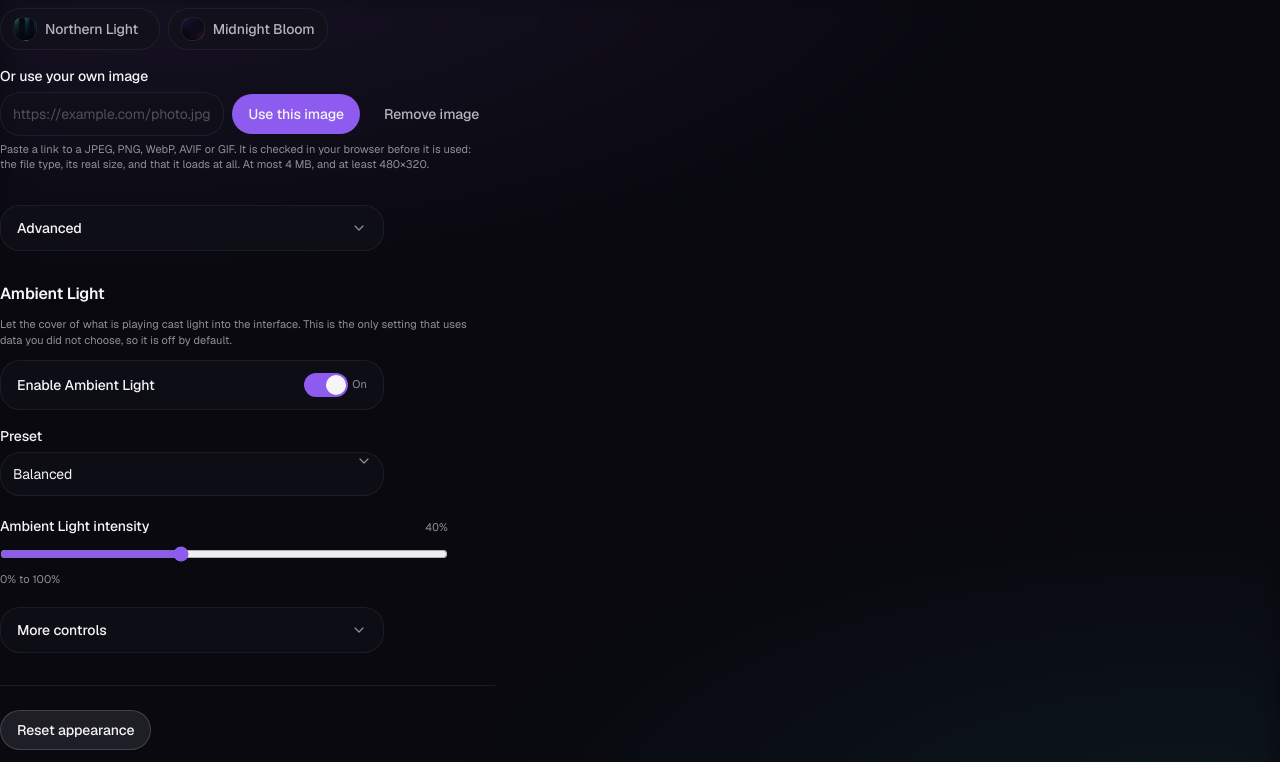
Appearance panel: Ambient Light is a first-class, progressive setting › the disclosure is a real expandable region with a state
This screenshot has width=1280, height=762.
(page scrolled)
Click the button with test id "ambient-more-toggle" at (62, 630), box [0,607,384,653]
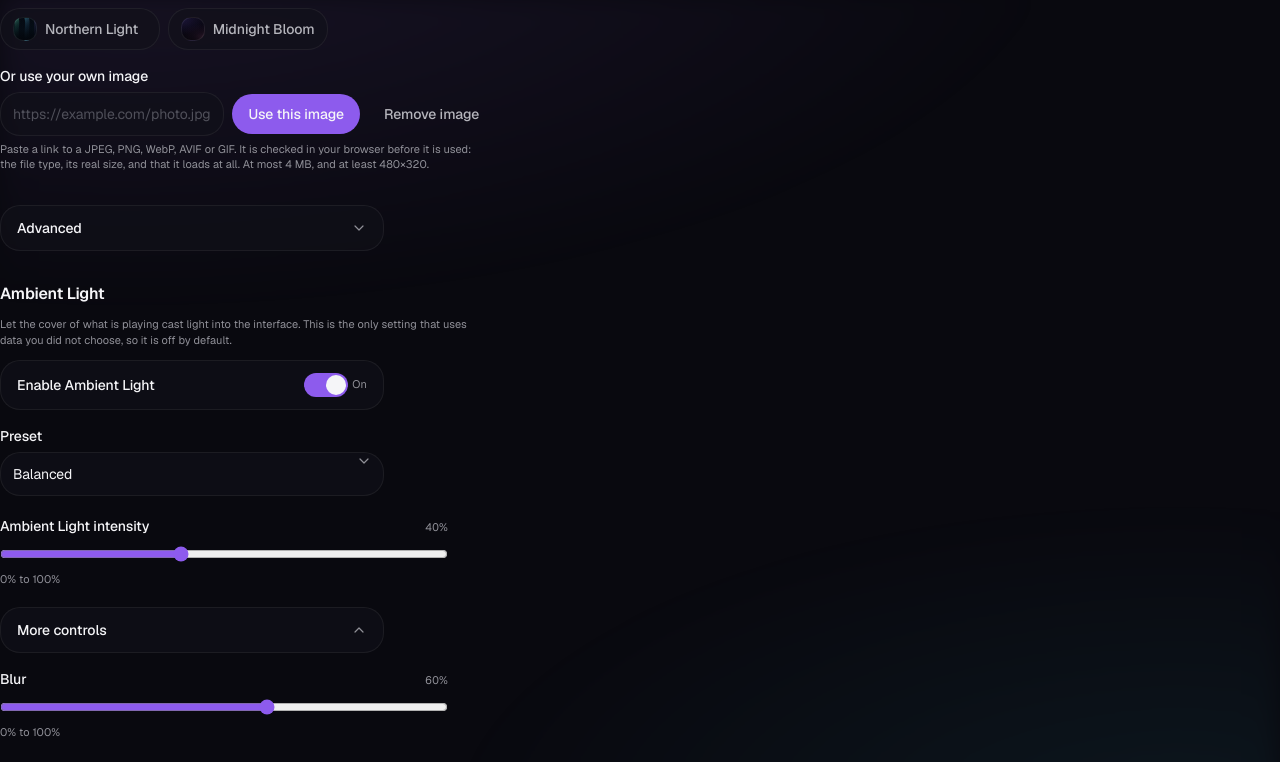
Check: the button with test id "ambient-more-toggle" is expanded, box [0,607,384,653]
